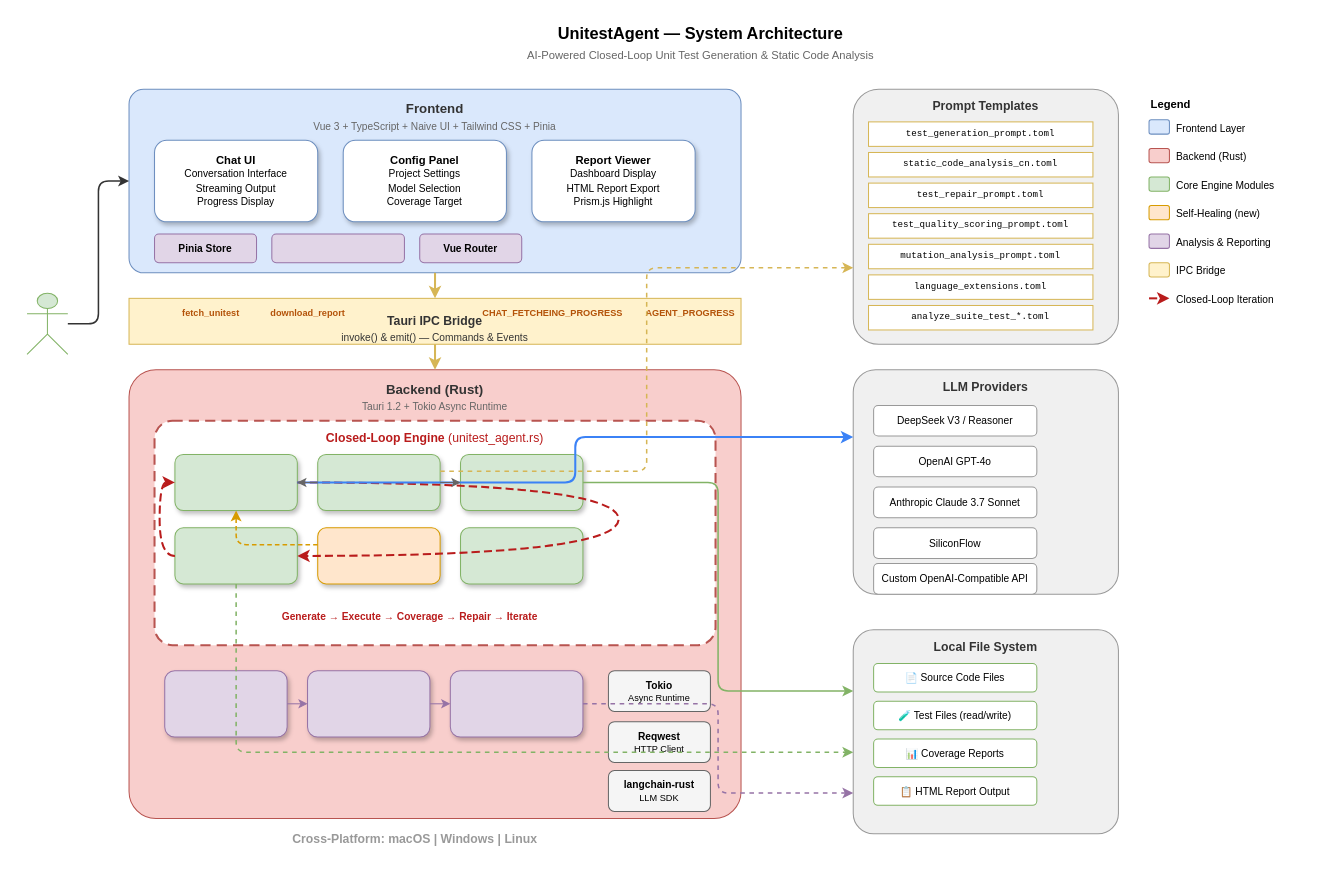
Some shapes in this 1335 by 871 pixel diagram are drawn without their labels. The shapes that lost their labels are listed below. From the top down, each one's centre as x and y in pixels, then its label:
the point at 337,248: Vue I18n (CN/EN/TW)
the point at 47,323: Developer
the point at 236,483: AI Caller Streaming LLM langchain-rust
the point at 379,483: Prompt Builder Tera Templates TOML Configs
the point at 522,483: Test Runner Shell Execution sh -c command
the point at 236,557: Coverage Processor Cobertura / Lcov Jacoco Parser
the point at 379,557: Self-Healing AI Test Repair Error Analysis
the point at 522,557: Progress Tracker Phase Events Iteration Records
the point at 226,705: Static Analysis Code Standards Performance Security
the point at 369,705: Quality Scoring 5-Dimension Score Mutation Analysis
the point at 517,705: Report Generator HTML Dashboard Tera Templates Prism.js Highlight
